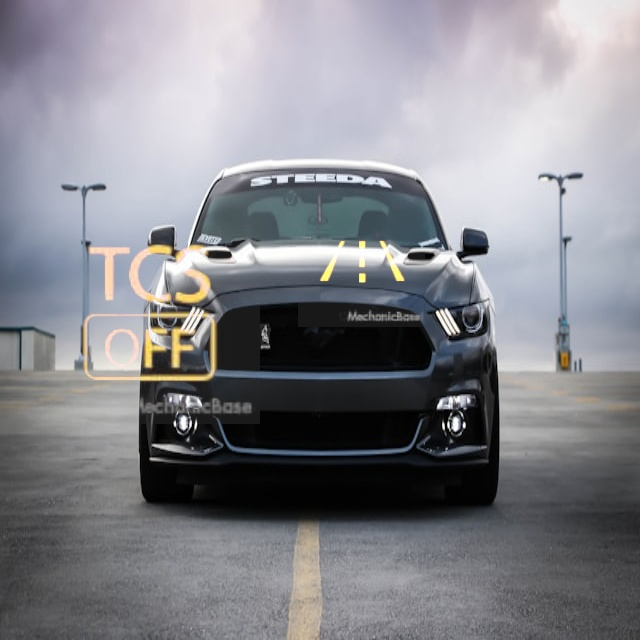symbol: (44, 208, 260, 424), (298, 200, 425, 327)
